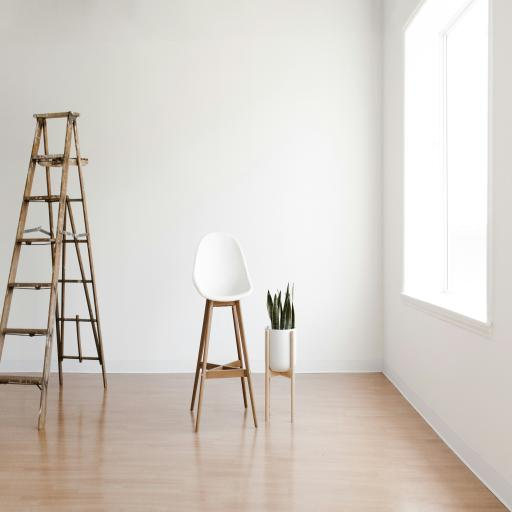chair: (190, 232, 258, 433)
wall: (0, 0, 382, 372), (381, 0, 512, 511)
